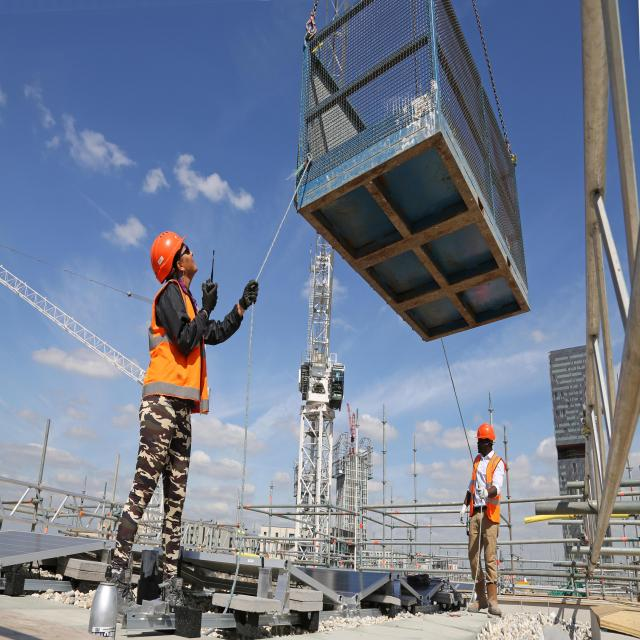Reflective-Jacket: (139, 280, 211, 423), (467, 450, 507, 526)
Safety-Helmet: (149, 225, 188, 280), (476, 419, 498, 441)
